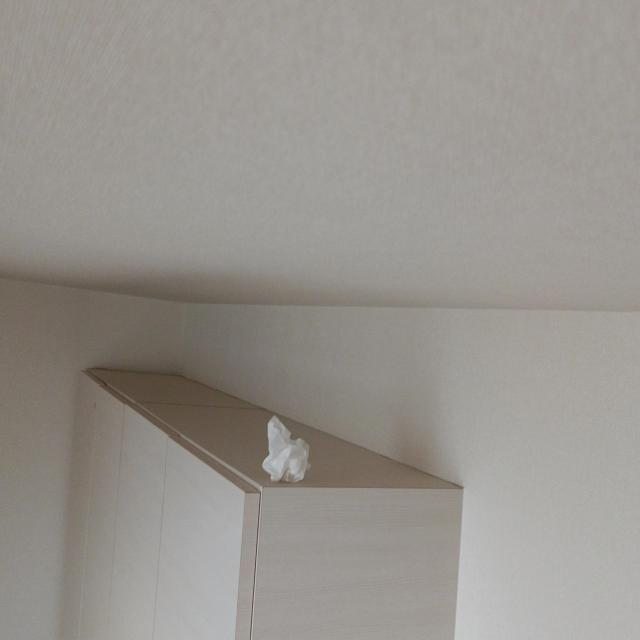衛生紙: (264, 404, 314, 486)
